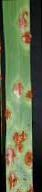Sugarcane: (3, 9, 34, 190)
